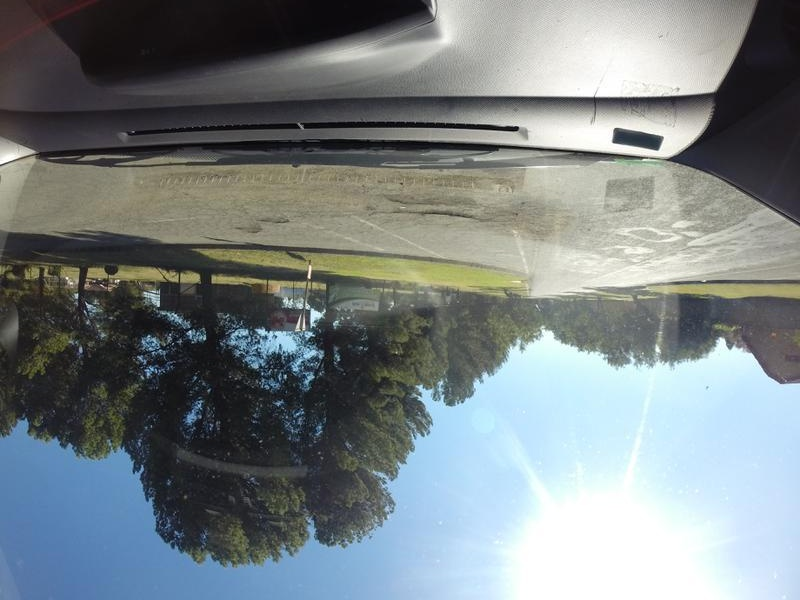pothole: (394, 205, 482, 225), (382, 190, 467, 204), (231, 217, 266, 237), (268, 211, 291, 231), (203, 231, 232, 244)
